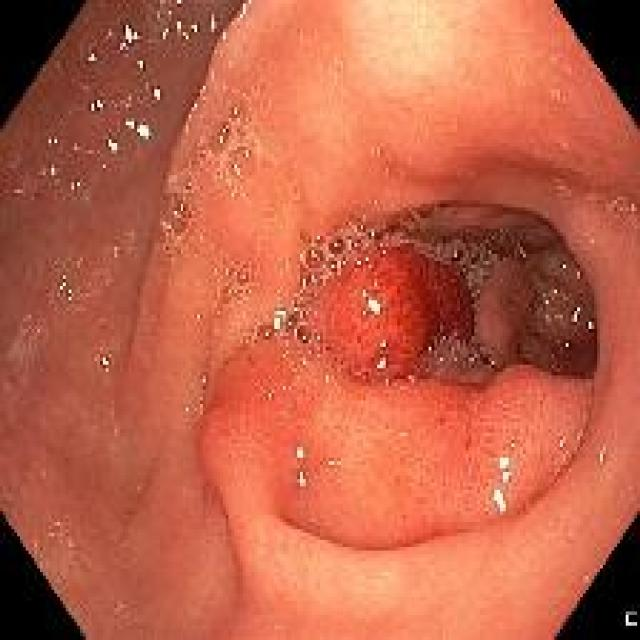bubbles: (303, 218, 376, 292), (452, 230, 495, 310), (382, 217, 452, 264), (427, 335, 482, 373), (220, 265, 260, 306), (227, 143, 261, 188), (162, 189, 193, 237), (500, 234, 533, 271), (603, 189, 637, 224), (283, 308, 311, 346), (177, 160, 207, 195), (206, 124, 227, 157), (254, 320, 278, 346), (237, 330, 254, 351), (195, 369, 209, 392), (198, 342, 214, 362), (574, 427, 590, 445), (228, 102, 243, 120), (581, 409, 596, 427), (344, 361, 357, 381), (201, 324, 217, 340), (209, 305, 223, 321), (562, 450, 575, 467), (235, 125, 248, 141), (359, 370, 371, 387), (553, 462, 566, 477), (312, 331, 325, 346), (333, 351, 341, 367)
saturation: (344, 1, 524, 98)
specularity: (497, 451, 513, 485), (134, 118, 154, 145), (175, 14, 191, 45), (105, 133, 123, 159), (58, 277, 74, 306), (490, 490, 508, 515), (121, 21, 141, 43), (86, 91, 103, 114), (205, 12, 221, 36), (371, 355, 390, 374), (569, 301, 584, 324), (98, 347, 111, 372), (366, 297, 383, 316), (271, 307, 285, 330), (294, 471, 308, 493), (148, 83, 162, 103), (134, 56, 149, 72), (122, 114, 135, 132), (293, 445, 306, 462), (192, 17, 201, 40), (538, 292, 551, 307), (84, 52, 99, 65), (563, 333, 573, 352), (381, 375, 392, 392), (375, 334, 385, 352), (599, 446, 607, 467), (174, 202, 185, 217), (587, 315, 595, 335), (358, 308, 370, 321), (550, 285, 559, 302), (217, 127, 227, 142), (357, 286, 367, 300), (558, 259, 567, 273), (557, 438, 567, 450), (119, 39, 128, 52), (232, 163, 239, 178), (241, 150, 250, 159), (232, 104, 237, 113)
